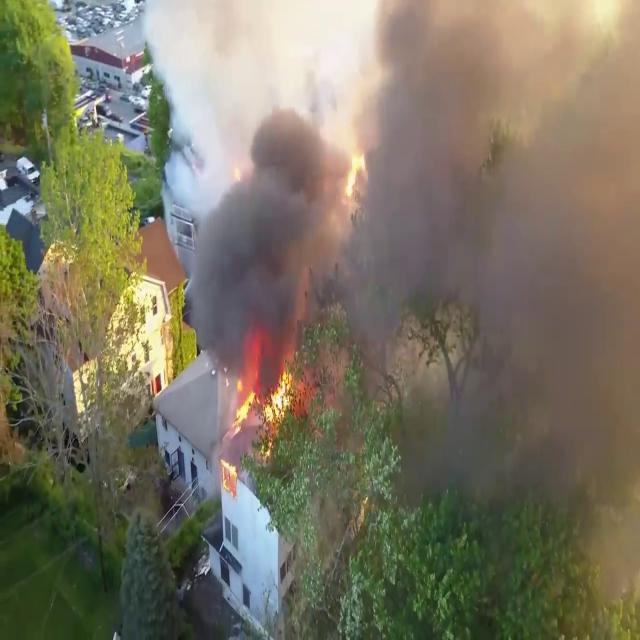Fire: (230, 354, 301, 442)
Smoke: (181, 0, 640, 410)
